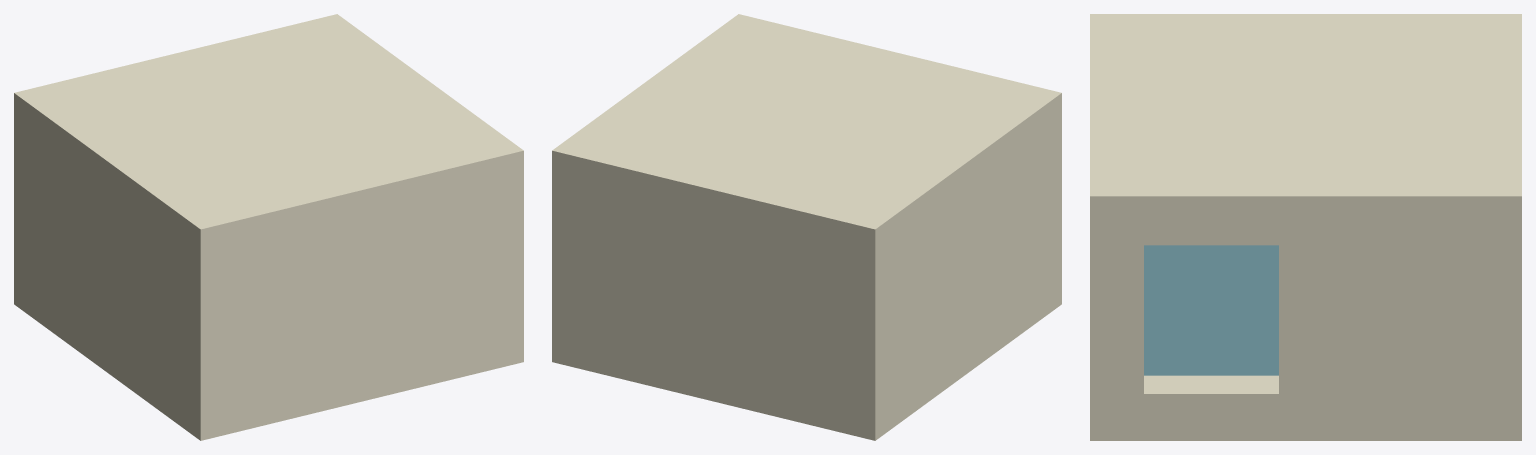
Rendered from building_053.fbx.
3 views of the same model, side by side, from view 1: azimuth 30°, elevation 25°; view 2: azimuth 150°, elevation 25°; view 3: azimuth 270°, elevation 25° (orthographic). The views are drawn at different scales.
Parts seen in each view (by area): view 1: building_053; view 2: building_053; view 3: building_053.
Boxes of the visible parts, x1,y1,x2,y2 form: building_053: (14,14,523,440); building_053: (552,14,1061,440); building_053: (1090,14,1521,440).
Size of the model in its own units: 10 by 6.25 by 10.
